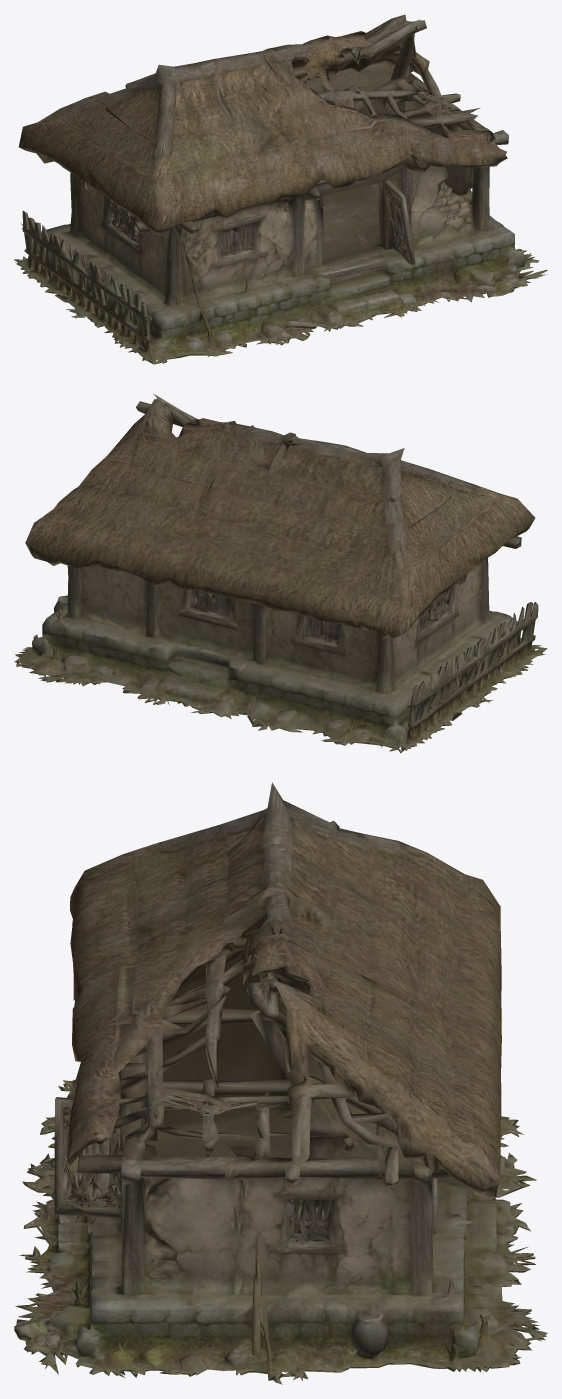
File: t951_ruined_hut.glb
The picture shows the model from 3 angles, top to bottom: view 1: azimuth 30°, elevation 25°; view 2: azimuth 150°, elevation 25°; view 3: azimuth 270°, elevation 25°; orthographic projection. The views are drawn at different scales.
Visible parts, largest first — view 1: tripo_node_192418cf-8090-4798-8bd7-19acf19ab242; view 2: tripo_node_192418cf-8090-4798-8bd7-19acf19ab242; view 3: tripo_node_192418cf-8090-4798-8bd7-19acf19ab242.
Boxes of the visible parts, x1,y1,x2,y2 form: tripo_node_192418cf-8090-4798-8bd7-19acf19ab242: [14, 14, 547, 364]; tripo_node_192418cf-8090-4798-8bd7-19acf19ab242: [14, 393, 547, 753]; tripo_node_192418cf-8090-4798-8bd7-19acf19ab242: [14, 782, 547, 1384].
Bounding box in the file's own units: 0.9813 × 0.5196 × 0.7063.
Materials: 1 (1 with a texture image).
